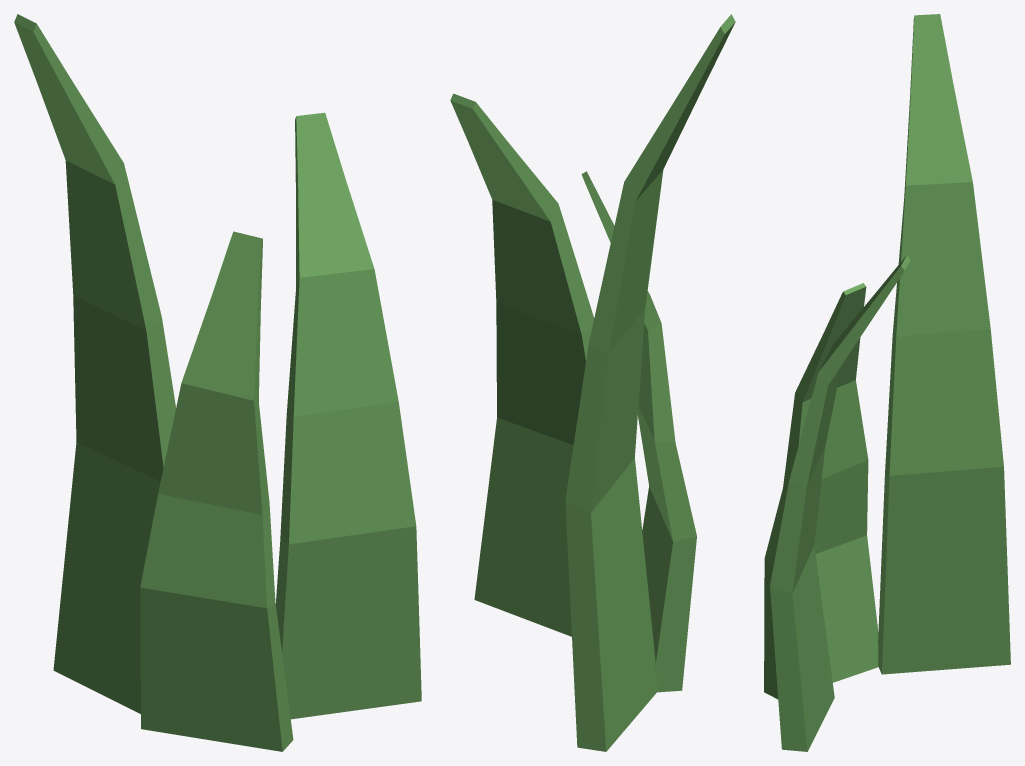
Rendered from grass1.gltf.
The picture shows the model from 3 angles, left to right: view 1: azimuth 30°, elevation 25°; view 2: azimuth 150°, elevation 25°; view 3: azimuth 270°, elevation 25°; orthographic projection. The views are drawn at different scales.
Parts seen in each view (by area): view 1: grass2; view 2: grass2; view 3: grass2.
Part boxes in pixels (x1,y1,x2,y2): grass2: (14,14,421,751); grass2: (450,14,735,751); grass2: (764,14,1010,751).
Size of the model in its own units: 1.85 by 3.86 by 1.42.
